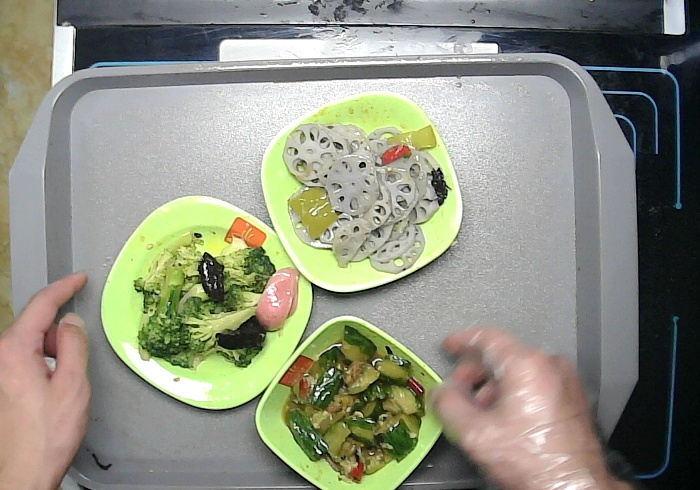SHKJ-Lv_Se_Cai_Die: (256, 88, 465, 295)
SHKJ-Lv_Se_Si_Fang_Cai_Die: (99, 192, 315, 412)
SHKJ-Lv_Se_Xiao_Fang_Die: (253, 311, 444, 490)
